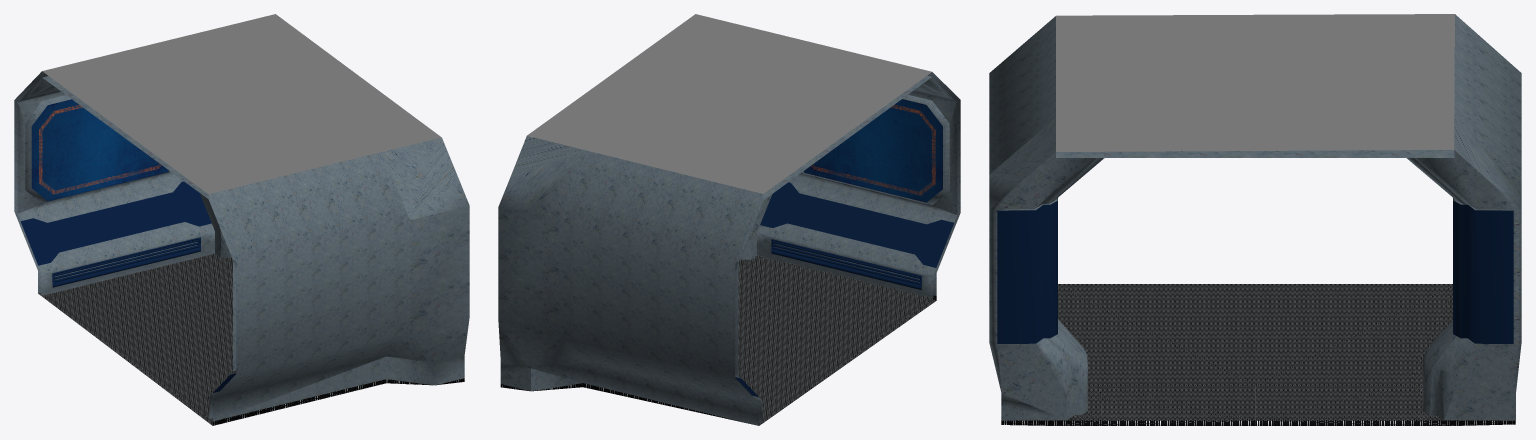
The model's file is pasillo_2.obj.
3 views of the same model, side by side, from view 1: azimuth 30°, elevation 25°; view 2: azimuth 150°, elevation 25°; view 3: azimuth 270°, elevation 25° (orthographic). The views are drawn at different scales.
Parts seen in each view (by area): view 1: pasillo_hangar_salaespera:polyS1, pasillo_hangar_salaespera:polyS2, pasillo_hangar_salaespera:polySu, pasillo_hangar_salaespera:polyS0, pasillo_hangar_salaespera:pared1; view 2: pasillo_hangar_salaespera:pared1, pasillo_hangar_salaespera:polyS2, pasillo_hangar_salaespera:polyS1, pasillo_hangar_salaespera:polySu, pasillo_hangar_salaespera:azul2; view 3: pasillo_hangar_salaespera:polyS2, pasillo_hangar_salaespera:polySu, pasillo_hangar_salaespera:pared1, pasillo_hangar_salaespera:polyS1, pasillo_hangar_salaespera:azul2, pasillo_hangar_salaespera:polyS0.
Boxes of the visible parts, box(x1,y1,x2,y2) form: pasillo_hangar_salaespera:polyS1: box(208, 137, 469, 421); pasillo_hangar_salaespera:polyS2: box(42, 14, 441, 199); pasillo_hangar_salaespera:polySu: box(38, 253, 464, 425); pasillo_hangar_salaespera:polyS0: box(20, 99, 211, 287); pasillo_hangar_salaespera:pared1: box(14, 71, 231, 295); pasillo_hangar_salaespera:pared1: box(498, 136, 763, 425); pasillo_hangar_salaespera:polyS2: box(527, 14, 931, 200); pasillo_hangar_salaespera:polyS1: box(739, 72, 960, 298); pasillo_hangar_salaespera:polySu: box(500, 255, 936, 425); pasillo_hangar_salaespera:azul2: box(760, 182, 953, 289); pasillo_hangar_salaespera:polyS2: box(1056, 14, 1454, 157); pasillo_hangar_salaespera:polySu: box(1001, 284, 1515, 425); pasillo_hangar_salaespera:pared1: box(1406, 14, 1521, 420); pasillo_hangar_salaespera:polyS1: box(989, 16, 1104, 420); pasillo_hangar_salaespera:azul2: box(997, 198, 1057, 343); pasillo_hangar_salaespera:polyS0: box(1453, 201, 1513, 343).
Bounding box in the file's own units: 18 × 16.86 × 29.45.
